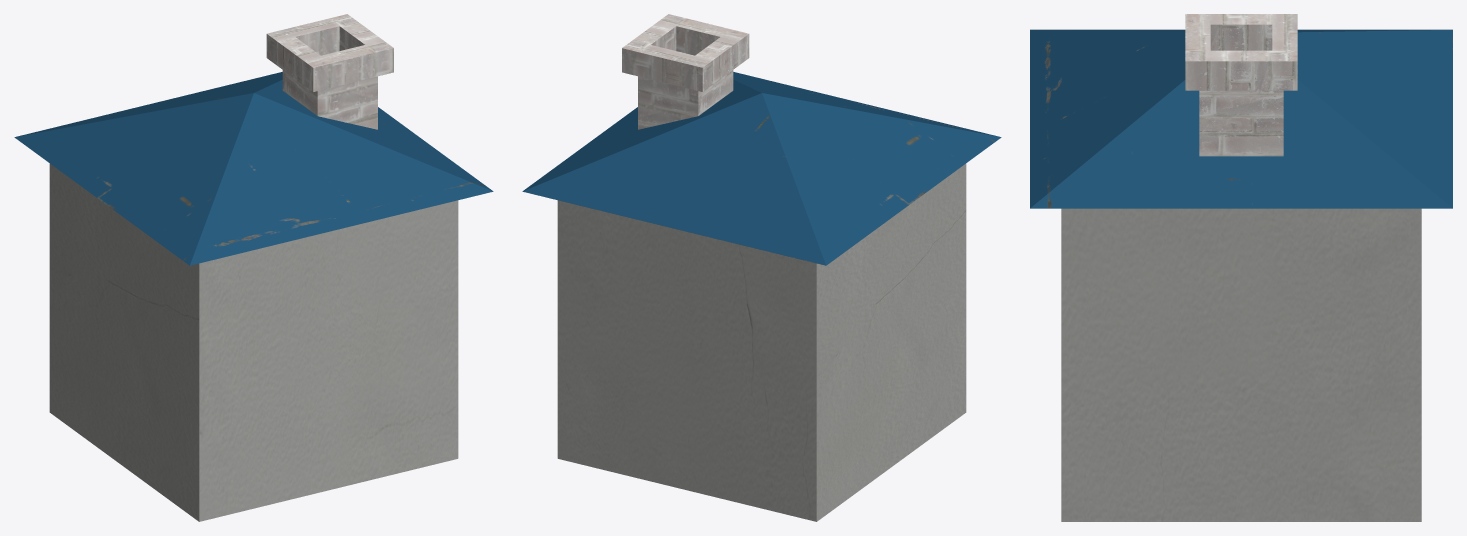
The model's file is пробный дом.glb.
3 views of the same model, side by side, from view 1: azimuth 30°, elevation 25°; view 2: azimuth 150°, elevation 25°; view 3: azimuth 270°, elevation 25° (orthographic). The views are drawn at different scales.
Visible parts, largest first — view 1: walls, roof, pipe; view 2: walls, roof, pipe; view 3: walls, roof, pipe.
Part boxes in pixels (bbox=[...]): walls: bbox=[49, 163, 458, 521]; roof: bbox=[14, 72, 493, 265]; pipe: bbox=[266, 14, 393, 129]; walls: bbox=[557, 163, 966, 521]; roof: bbox=[522, 72, 1001, 265]; pipe: bbox=[622, 14, 749, 129]; walls: bbox=[1061, 208, 1421, 521]; roof: bbox=[1030, 29, 1452, 208]; pipe: bbox=[1185, 14, 1297, 156].
Bounding box in the file's own units: 4.69 × 5.55 × 4.69.
3 materials, 3 textured.
